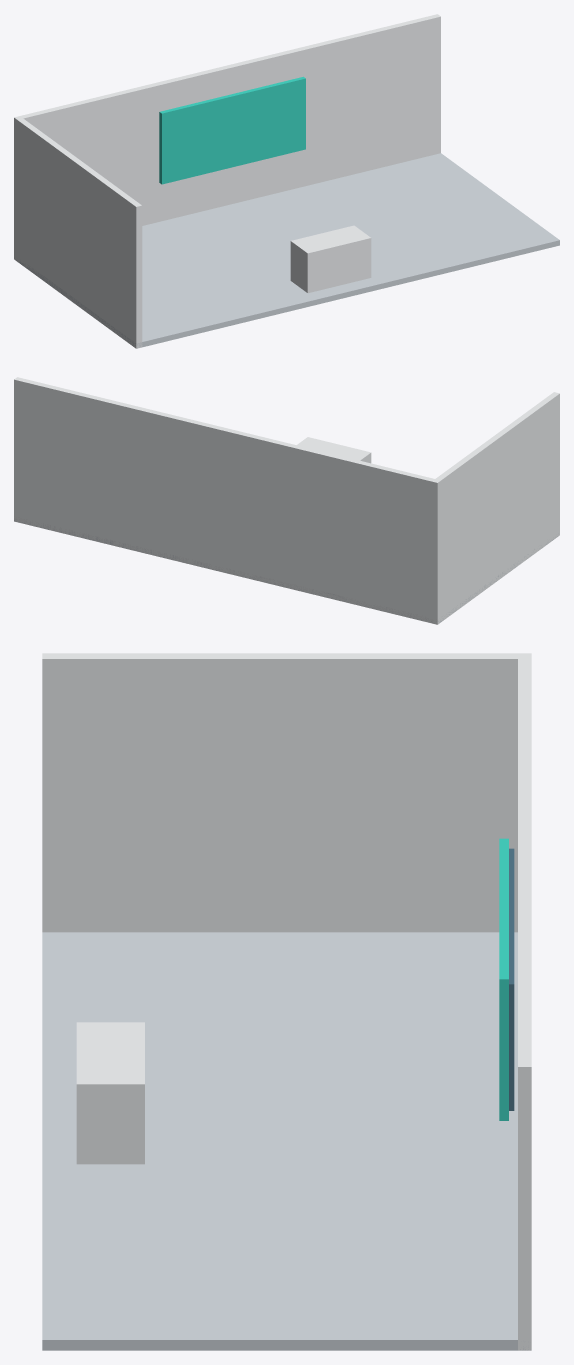
3 renders of one model, top to bottom at view 1: azimuth 30°, elevation 25°; view 2: azimuth 150°, elevation 25°; view 3: azimuth 270°, elevation 25°, orthographic. The views are drawn at different scales.
Visible parts, largest first — view 1: Exhibition Booth Concept; view 2: Exhibition Booth Concept; view 3: Exhibition Booth Concept.
Boxes of the visible parts, x1,y1,x2,y2 form: Exhibition Booth Concept: (14, 14, 559, 348); Exhibition Booth Concept: (14, 377, 559, 624); Exhibition Booth Concept: (42, 653, 531, 1350).
Size of the model in its own units: 10 by 3.2 by 5.
